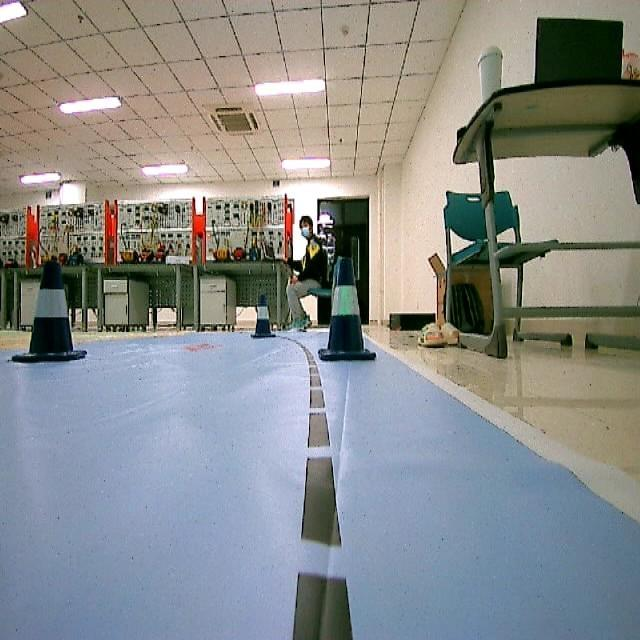obstacle: (17, 262, 88, 366), (320, 255, 374, 367), (250, 291, 274, 339)
